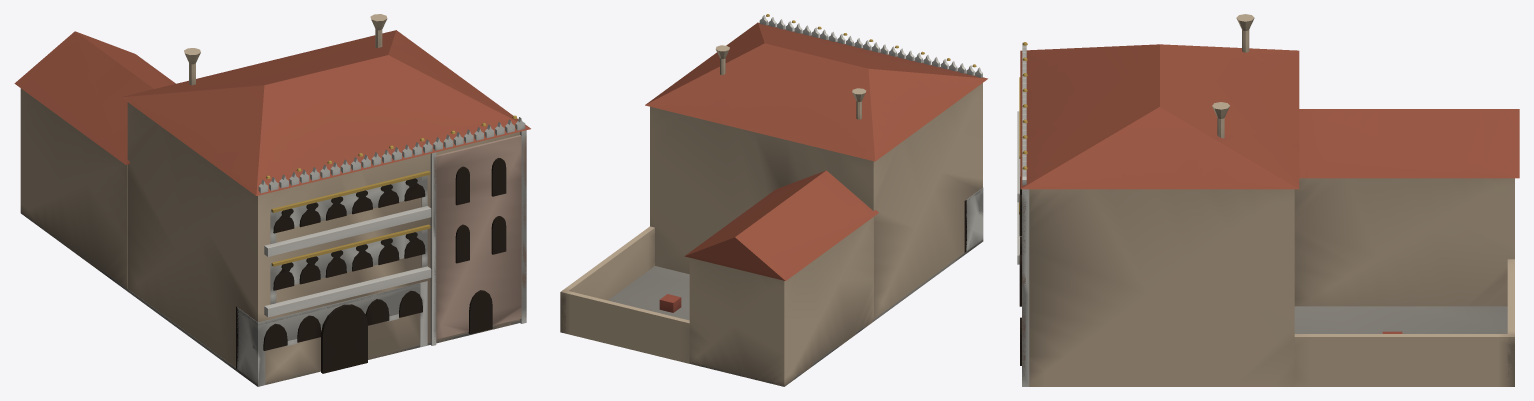
File: ca-doro.glb
The picture shows the model from 3 angles, left to right: view 1: azimuth 30°, elevation 25°; view 2: azimuth 150°, elevation 25°; view 3: azimuth 270°, elevation 25°; orthographic projection. The views are drawn at different scales.
Parts seen in each view (by area): view 1: p0_walls, p1_facade; view 2: p0_walls, p1_facade; view 3: p0_walls, p1_facade.
Boxes of the visible parts, left/top/right/bottom form: p0_walls: left=14, top=14, right=530, bottom=386; p1_facade: left=236, top=115, right=526, bottom=386; p0_walls: left=560, top=22, right=987, bottom=386; p1_facade: left=759, top=14, right=983, bottom=252; p0_walls: left=1020, top=14, right=1519, bottom=386; p1_facade: left=1017, top=42, right=1029, bottom=386.
Bounding box in the file's own units: 26.8 × 23.02 × 41.05.
